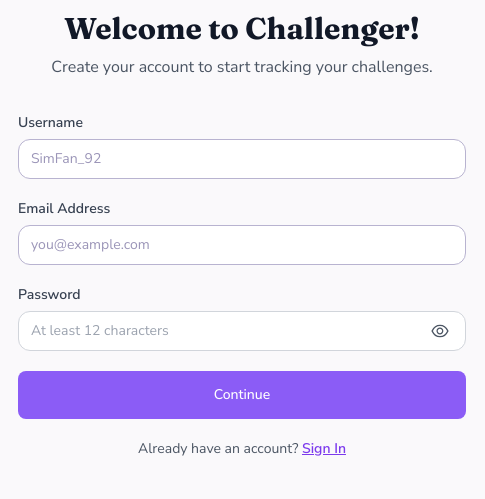
AccountStep Component › Username Field Validation › shows error for username too short
Type "ab" into the field labelled "Username" at (242, 159), box [18,139,466,179]
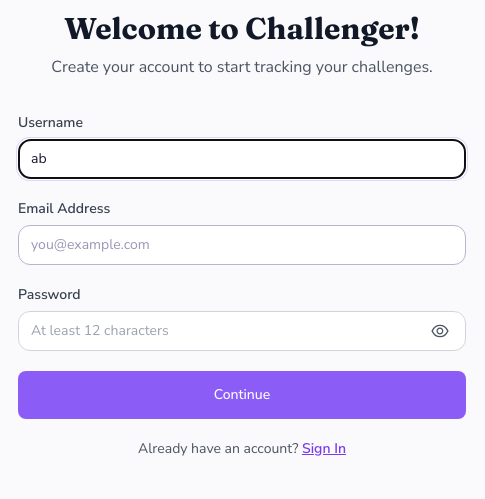
Press Tab
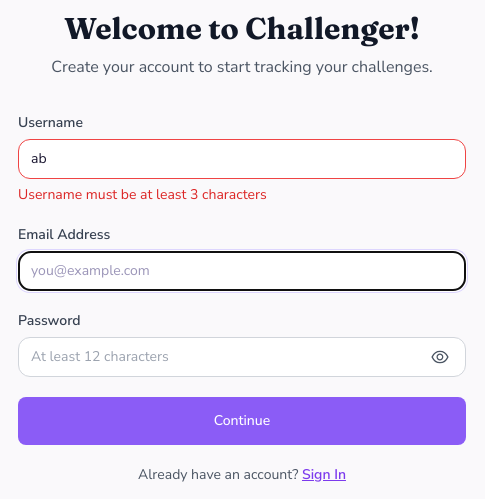
Check: the text "Username must be at least 3 characters" is shown, box [18,185,267,204]
